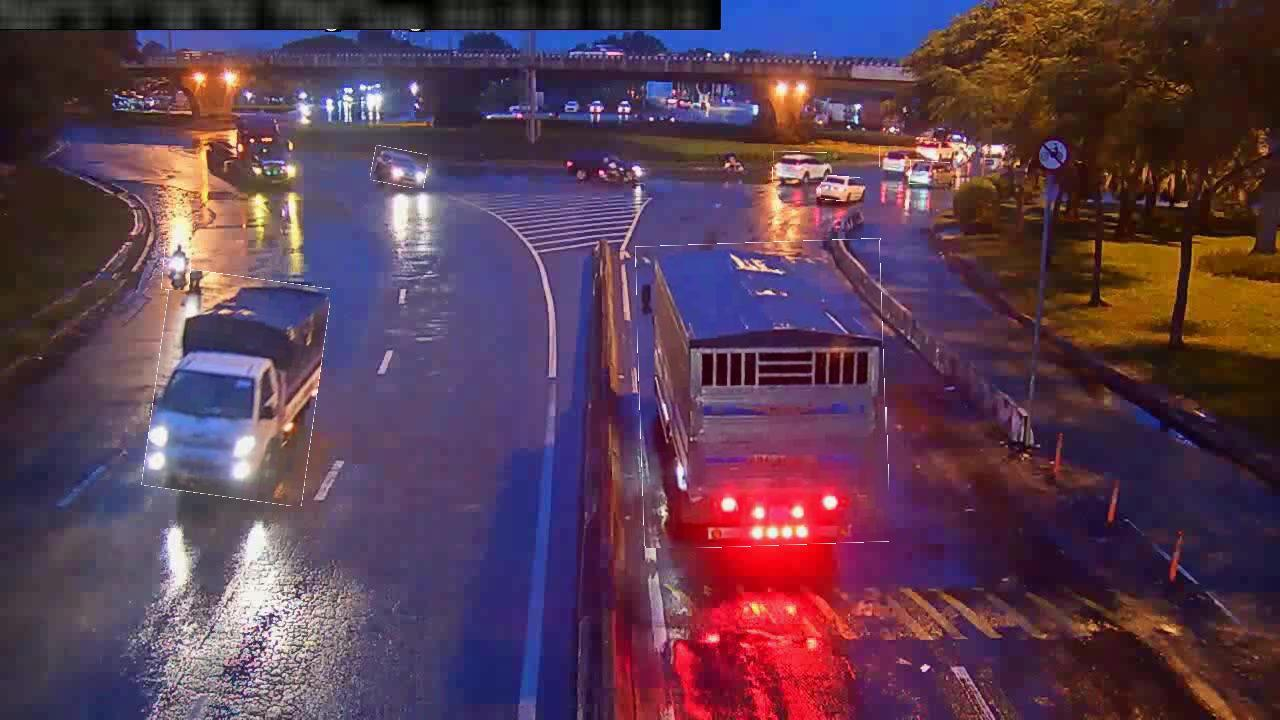8: (638, 240, 888, 547), (149, 272, 324, 502)
container: (372, 148, 428, 187), (773, 152, 828, 183), (821, 176, 864, 202), (879, 146, 928, 168), (910, 161, 951, 185)
motorbike: (162, 242, 191, 290)
